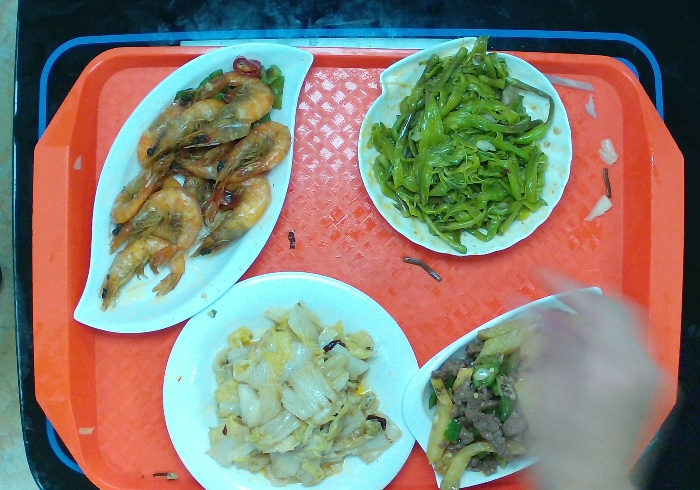RJxy-Bei_Ke_Wan: (343, 31, 581, 264)
RJxy-Jian_Jiao_Fang_Die: (398, 283, 609, 487)
RJxy-Jian_Jiao_Pan: (68, 37, 320, 346)
RJxy-Yuan_Pan: (155, 268, 424, 490)
